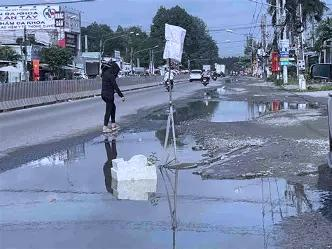ROAD_OBSTACLE: (0, 100, 275, 235), (160, 22, 188, 165), (110, 150, 158, 180)
